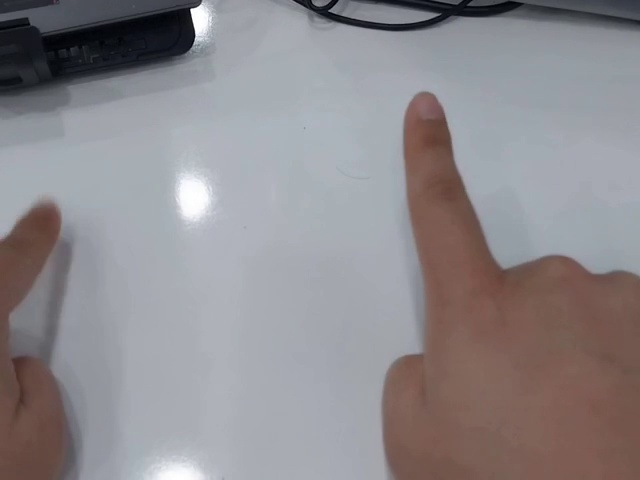fingers: (402, 91, 455, 150), (15, 199, 62, 259)
